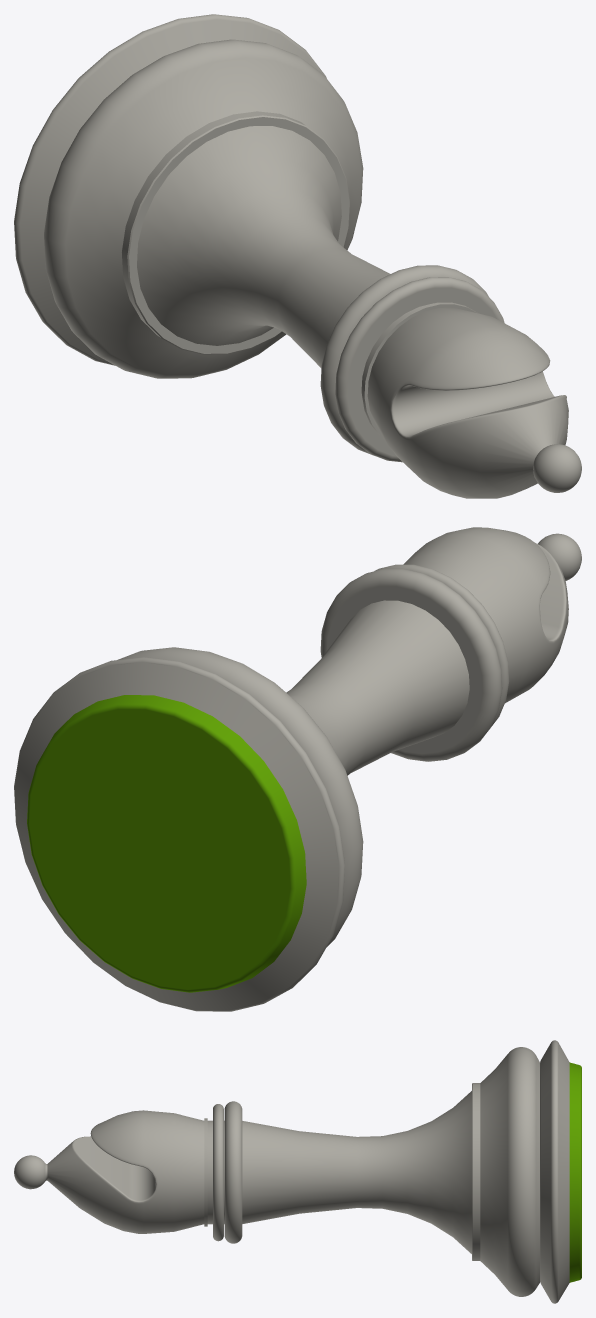
Rendered from bishop_asm_c.gltf.
3 renders of one model, top to bottom at view 1: azimuth 30°, elevation 25°; view 2: azimuth 150°, elevation 25°; view 3: azimuth 270°, elevation 25°, orthographic. The views are drawn at different scales.
Parts seen in each view (by area): view 1: bishop; view 2: bishop, felt; view 3: bishop, felt.
Boxes of the visible parts, <box> form: bishop: <box>14,14,581,498</box>; bishop: <box>14,527,581,1011</box>; felt: <box>27,695,306,992</box>; bishop: <box>14,1040,569,1303</box>; felt: <box>569,1062,581,1282</box>.
Size of the model in its own units: 0.031 by 0.031 by 0.0668.
